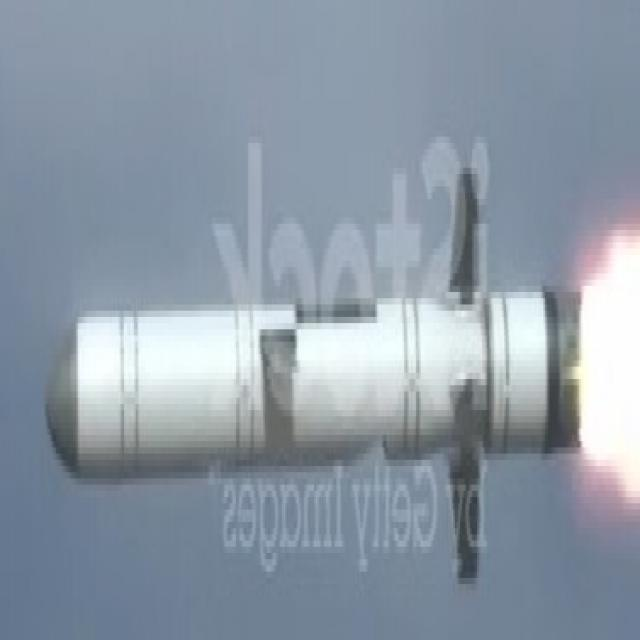Missile: (36, 279, 594, 492)
